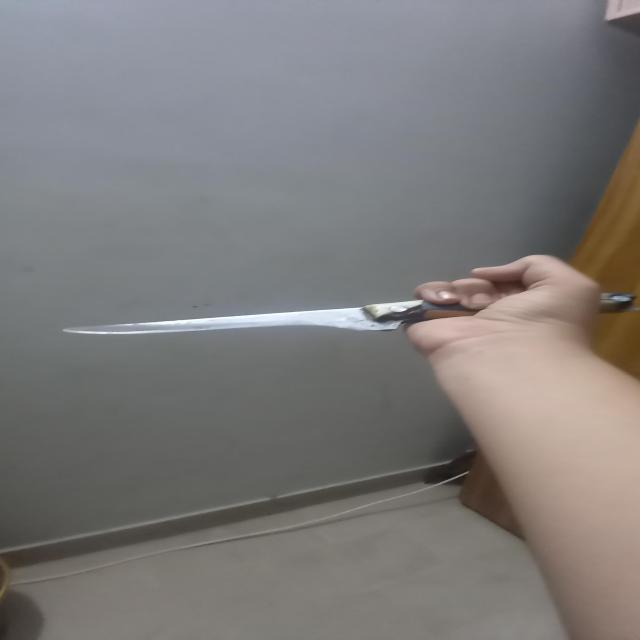Knife: (52, 285, 640, 343)
